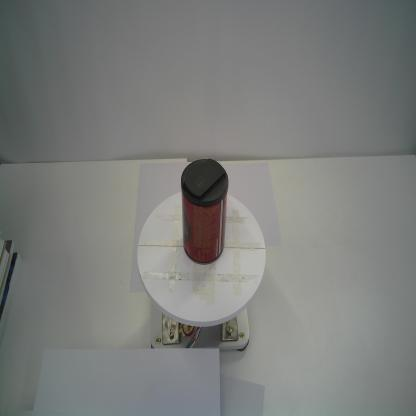Canned Food: (179, 157, 229, 265)
